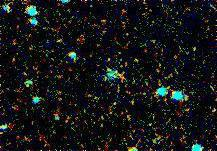star: (45, 26, 75, 56)
